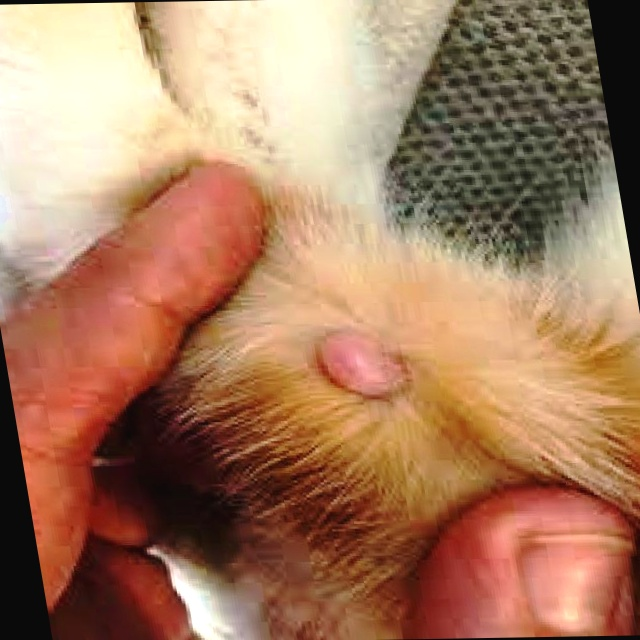lump_and_bump: (315, 328, 410, 402)
